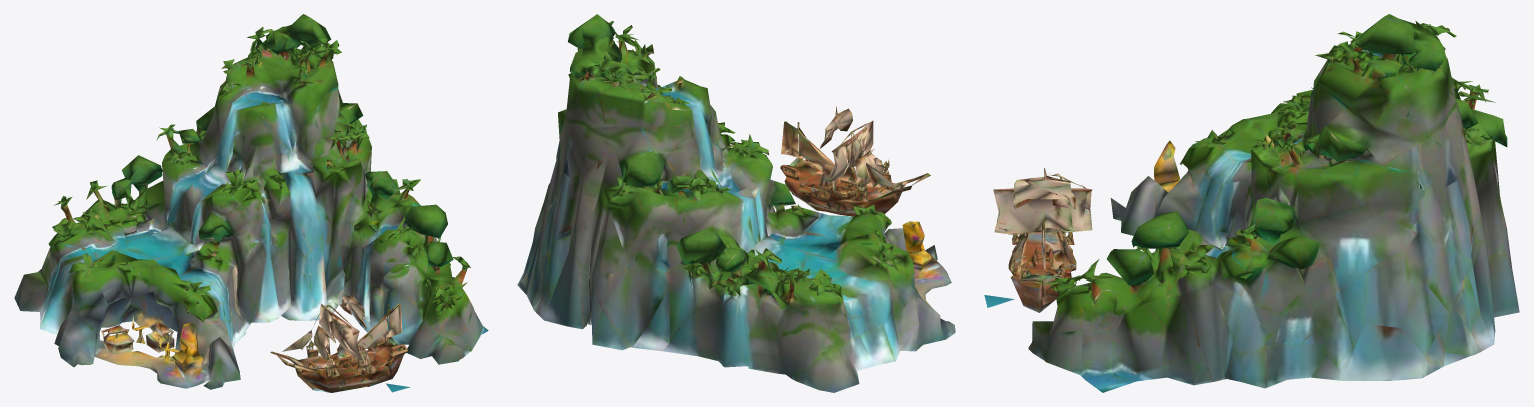
The model's file is m_cocos.glb.
3 views of the same model, side by side, from view 1: azimuth 30°, elevation 25°; view 2: azimuth 150°, elevation 25°; view 3: azimuth 270°, elevation 25° (orthographic). The views are drawn at different scales.
Size of the model in its own units: 0.8919 by 0.6087 by 0.8929.
1 material, 1 textured.
